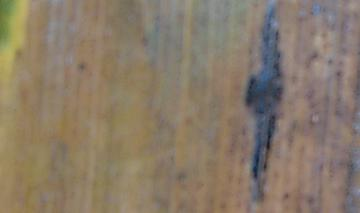tarspot: (241, 2, 287, 206), (305, 50, 318, 67), (138, 32, 149, 48), (304, 194, 316, 206), (76, 59, 86, 72), (13, 48, 22, 58), (282, 191, 291, 201), (325, 57, 333, 66), (335, 69, 342, 77)
